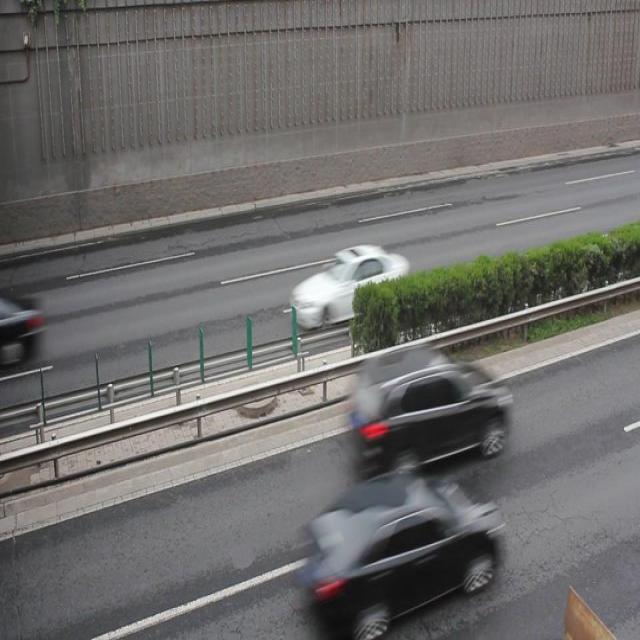car: (299, 469, 500, 628), (352, 346, 509, 468), (288, 244, 408, 330)
